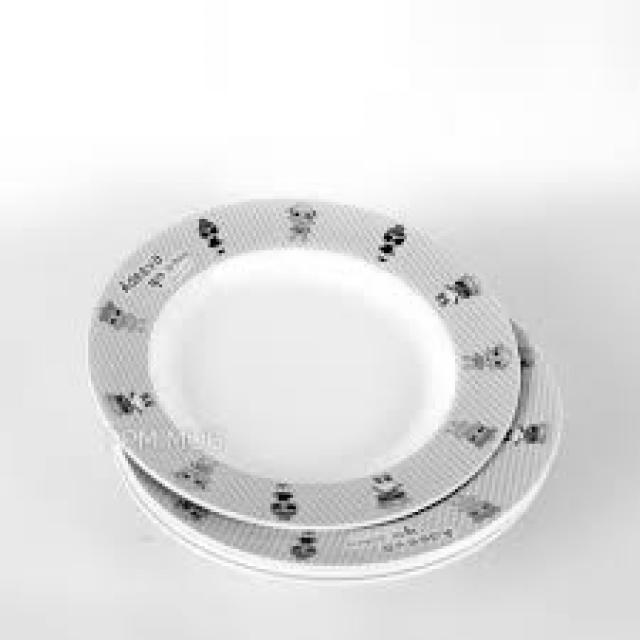dish: (51, 142, 558, 597)
